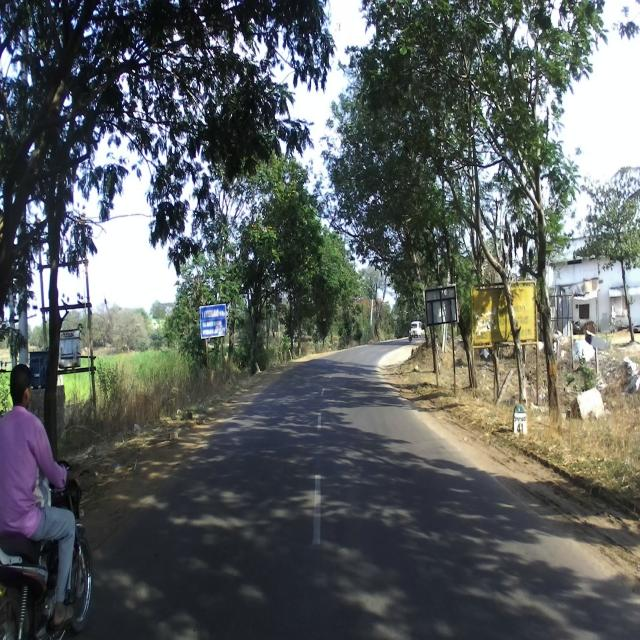motorcycle: (0, 460, 93, 639)
